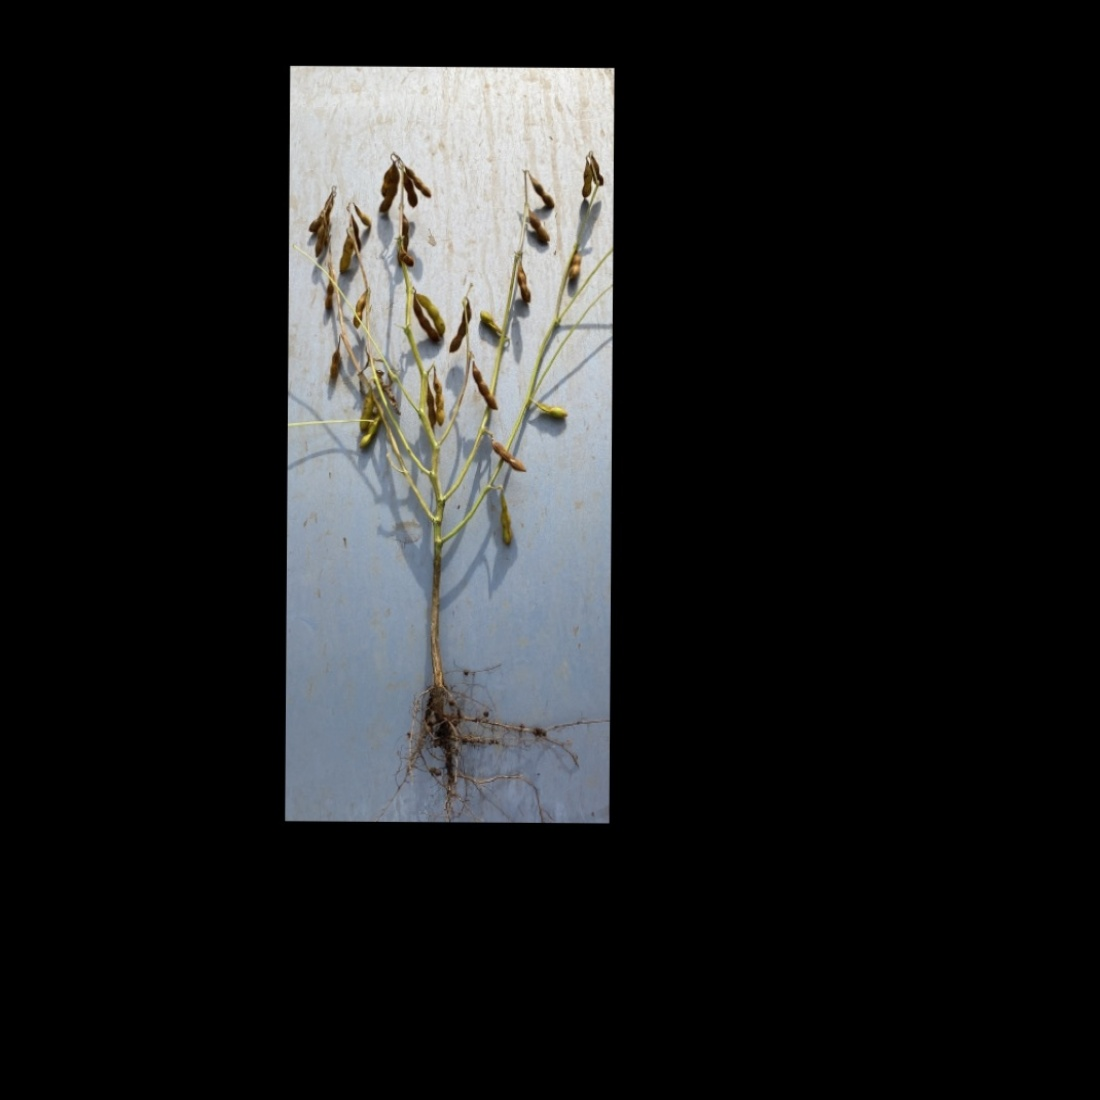pod: (443, 292, 479, 362), (409, 290, 451, 343), (404, 290, 441, 349), (400, 159, 434, 204), (494, 487, 519, 547), (469, 366, 501, 411), (527, 170, 558, 212), (490, 441, 532, 471), (398, 167, 424, 215), (508, 259, 533, 307), (333, 227, 356, 281), (525, 213, 554, 245), (325, 339, 343, 385), (431, 381, 448, 427), (351, 292, 369, 330), (323, 279, 337, 319), (570, 253, 589, 281)
soy: (297, 108, 603, 774)
